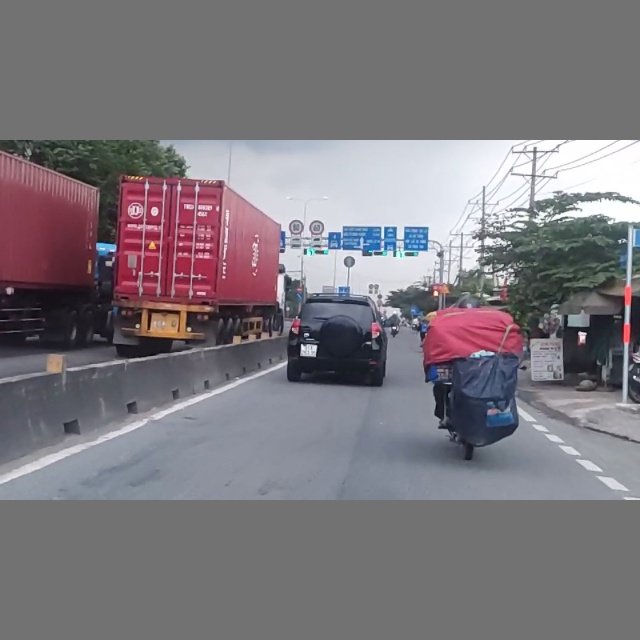P.102: (296, 286, 303, 293)
P.127*60: (309, 219, 325, 235)
P.127*80: (289, 219, 304, 235)
R.302a: (296, 293, 303, 299)
